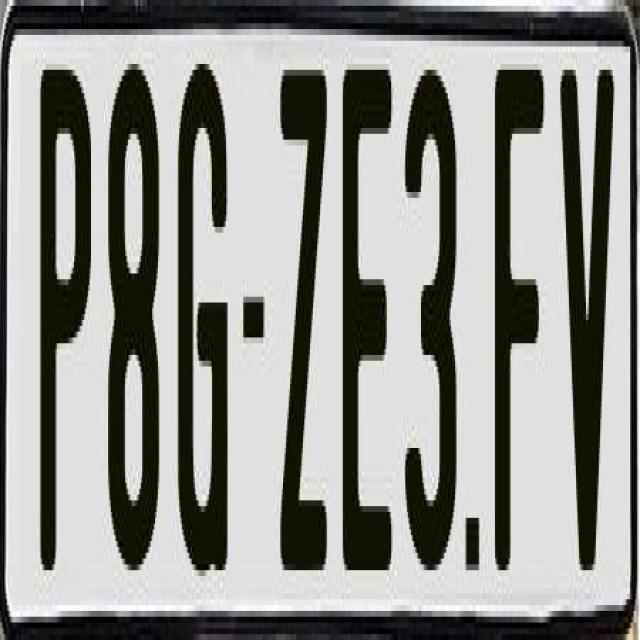3: (404, 52, 455, 558)
8: (104, 52, 160, 570)
E: (342, 58, 392, 582)
F: (494, 64, 550, 576)
G: (173, 46, 232, 576)
P: (40, 64, 94, 594)
V: (558, 58, 620, 594)
Z: (278, 70, 328, 606)
